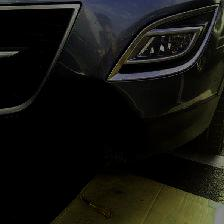bumper_dent: (64, 69, 141, 169)
